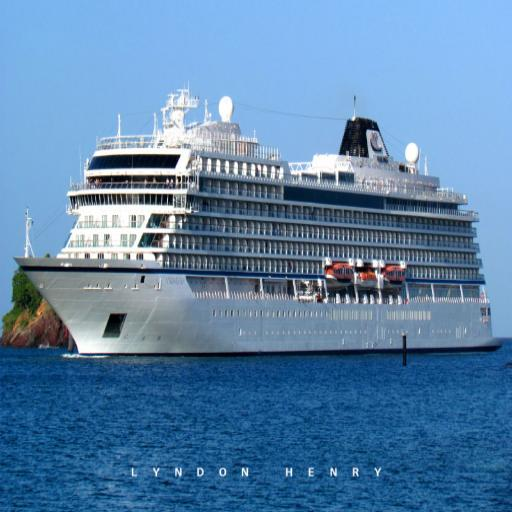cruises: (12, 78, 506, 367)
